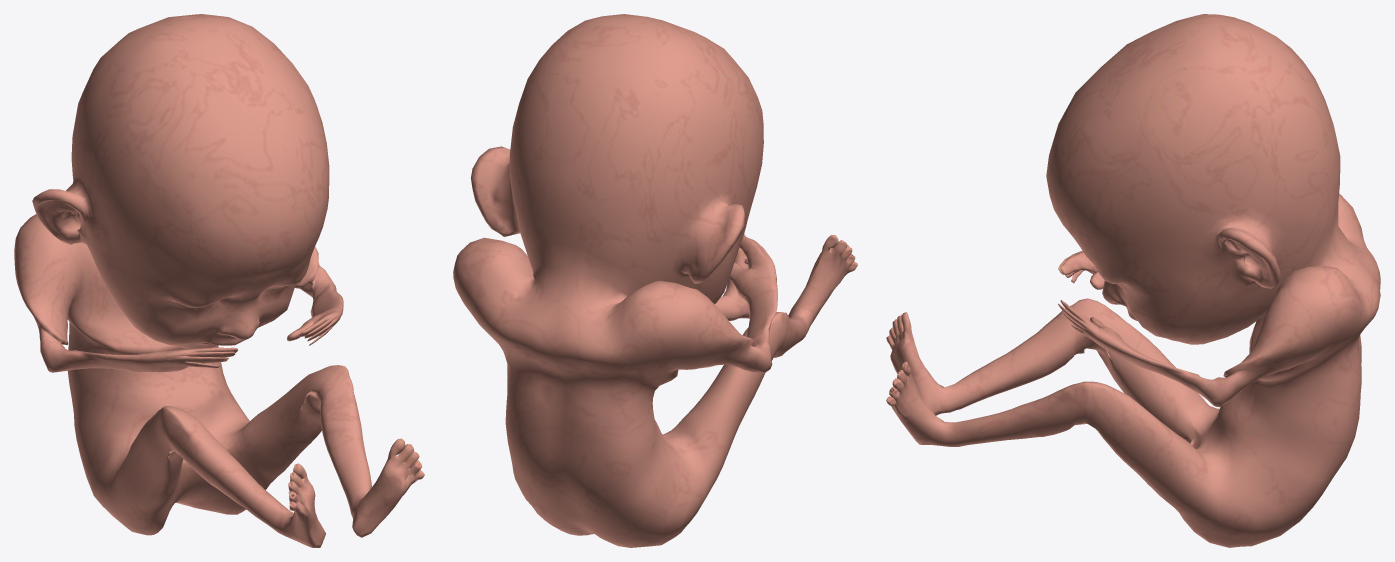
The picture shows the model from 3 angles, left to right: view 1: azimuth 30°, elevation 25°; view 2: azimuth 150°, elevation 25°; view 3: azimuth 270°, elevation 25°; orthographic projection.
Visible parts, largest first — view 1: Baby; view 2: Baby; view 3: Baby.
Boxes of the visible parts, x1,y1,x2,y2 form: Baby: [14, 14, 424, 547]; Baby: [453, 14, 857, 547]; Baby: [886, 14, 1380, 547].
Bounding box in the file's own units: 0.0524 × 0.087 × 0.0778.
Materials: 1 (1 with a texture image).
